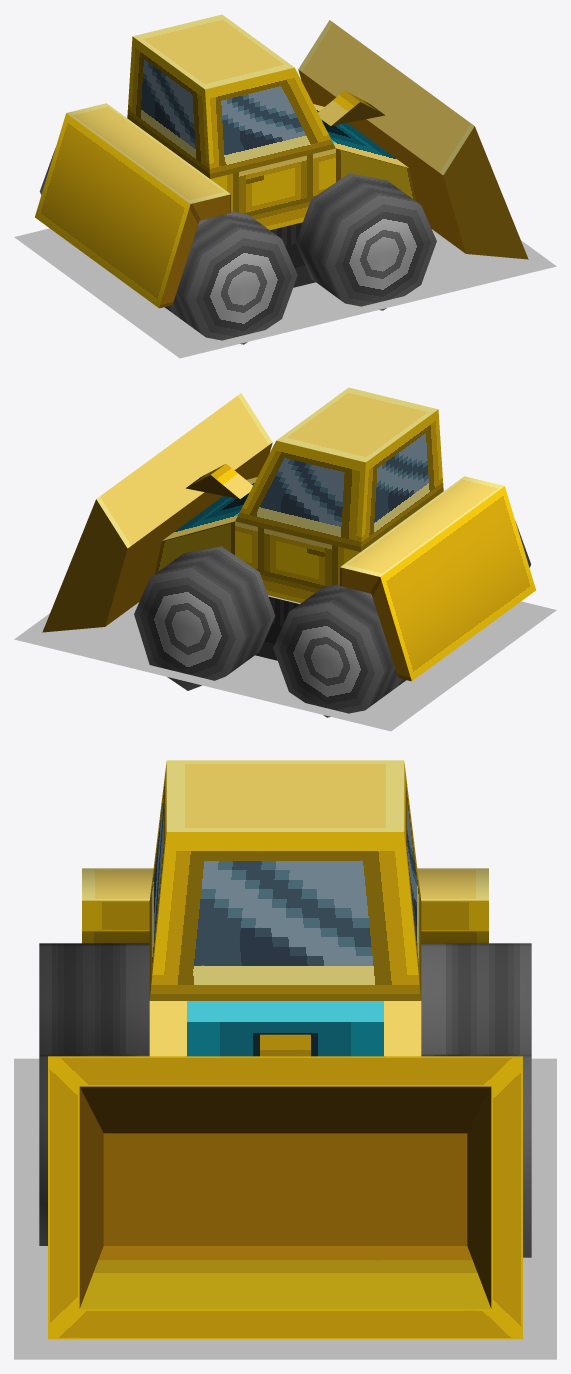
The picture shows the model from 3 angles, top to bottom: view 1: azimuth 30°, elevation 25°; view 2: azimuth 150°, elevation 25°; view 3: azimuth 270°, elevation 25°; orthographic projection. The views are drawn at different scales.
Visible parts, largest first — view 1: polygon2, polygon0, polygon3, polygon1; view 2: polygon2, polygon0, polygon3, polygon1; view 3: polygon2, polygon1, polygon0, polygon3.
Boxes of the visible parts, x1,y1,x2,y2 form: polygon2: (35,14,474,307); polygon0: (39,148,436,344); polygon3: (14,228,556,358); polygon1: (159,69,528,308); polygon2: (96,387,535,680); polygon0: (134,521,531,717); polygon3: (14,595,556,731); polygon1: (42,442,411,681); polygon2: (48,760,522,1339); polygon1: (79,1086,491,1308); polygon0: (39,943,531,1257); polygon3: (14,1058,556,1359).
Size of the model in its own units: 10.5 by 6.23 by 8.
